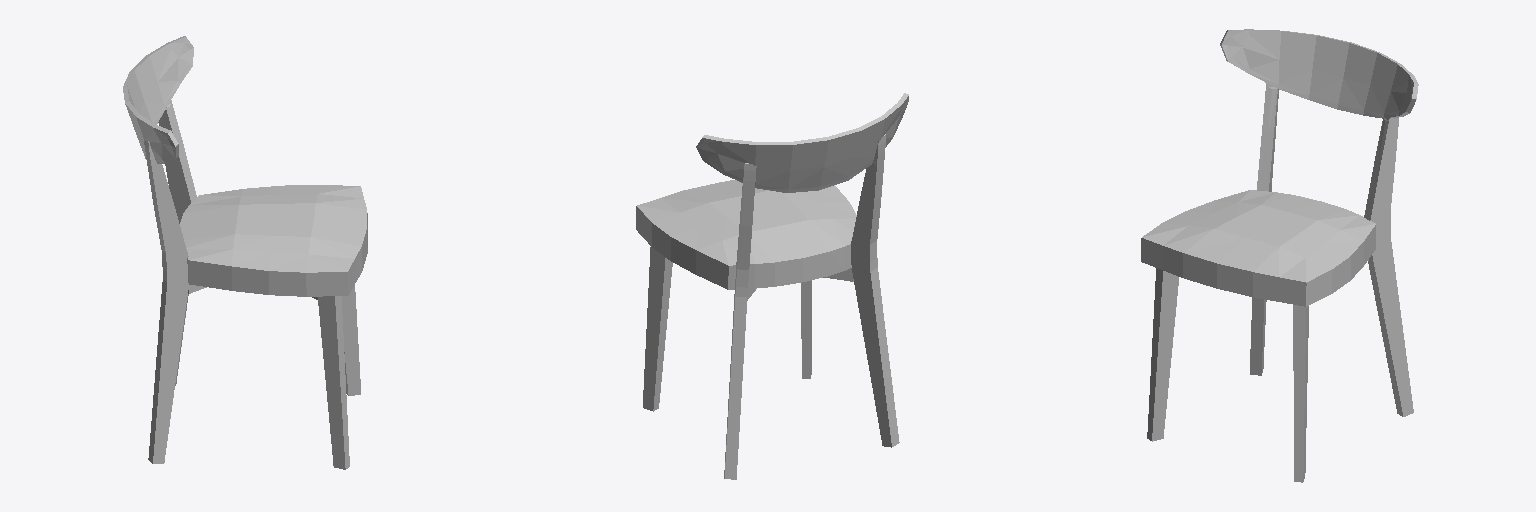
File: chair.obj
The picture shows the model from 3 angles: view 1: azimuth 30°, elevation 25°; view 2: azimuth 150°, elevation 25°; view 3: azimuth 270°, elevation 25°; orthographic projection.
Parts seen in each view (by area): view 1: Box009, Box003, Plane006, Box004; view 2: Box009, Box003, Plane006, Box004; view 3: Box009, Plane006, Box003, Box004.
Boxes of the visible parts, x1=… form: Box009: x1=180, y1=185, x2=367, y2=296; Box003: x1=144, y1=100, x2=196, y2=463; Plane006: x1=123, y1=36, x2=193, y2=163; Box004: x1=318, y1=285, x2=360, y2=469; Box009: x1=636, y1=180, x2=856, y2=289; Box003: x1=724, y1=134, x2=899, y2=479; Plane006: x1=696, y1=93, x2=908, y2=192; Box004: x1=643, y1=247, x2=811, y2=411; Box009: x1=1141, y1=190, x2=1375, y2=306; Plane006: x1=1220, y1=29, x2=1418, y2=118; Box003: x1=1250, y1=83, x2=1413, y2=416; Box004: x1=1147, y1=268, x2=1308, y2=482.
Bounding box in the file's own units: 55.39 × 76.25 × 55.96.